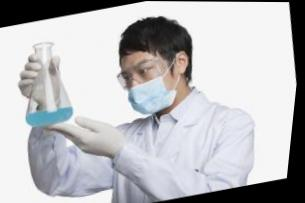WRONG: (116, 55, 183, 121)
